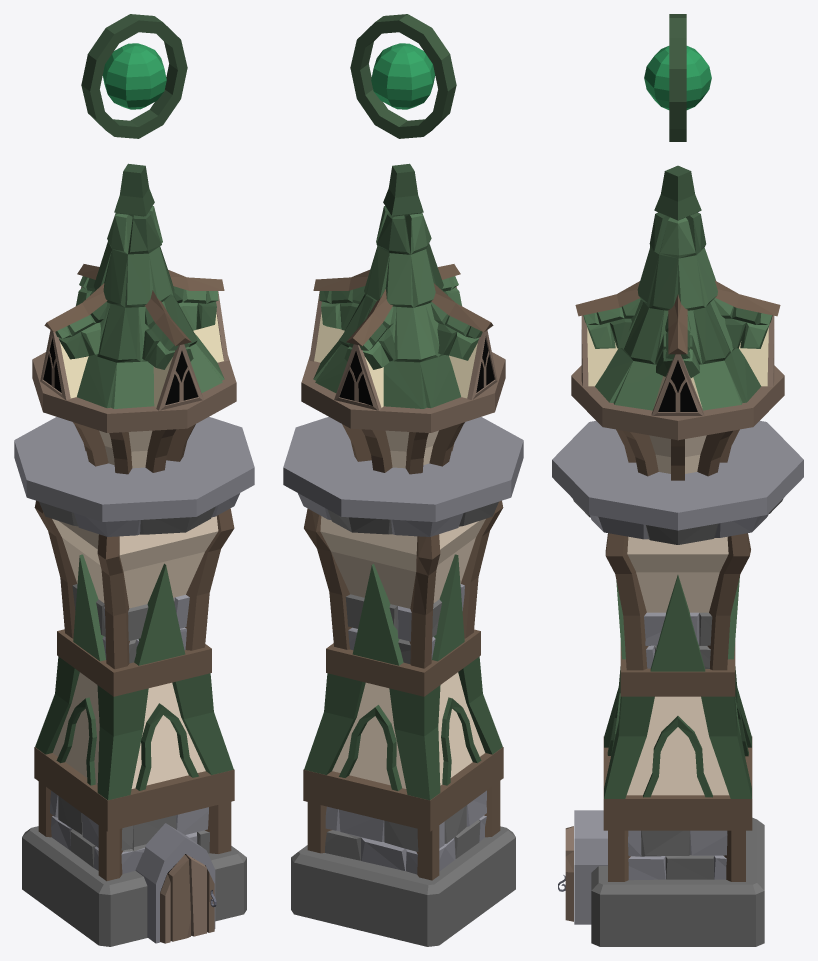
File: Wizard_Tower_lv3.gltf
3 views of the same model, side by side, from view 1: azimuth 30°, elevation 25°; view 2: azimuth 150°, elevation 25°; view 3: azimuth 270°, elevation 25° (orthographic).
Visible parts, largest first — view 1: Wizard_Tower_LVL_3_Body, Wizard_Tower_LVL_3_Head; view 2: Wizard_Tower_LVL_3_Body, Wizard_Tower_LVL_3_Head; view 3: Wizard_Tower_LVL_3_Body, Wizard_Tower_LVL_3_Head.
Part boxes in pixels (x1=…): Wizard_Tower_LVL_3_Body: x1=14, y1=163, x2=254, y2=946; Wizard_Tower_LVL_3_Head: x1=81, y1=14, x2=187, y2=138; Wizard_Tower_LVL_3_Body: x1=283, y1=163, x2=523, y2=946; Wizard_Tower_LVL_3_Head: x1=350, y1=14, x2=456, y2=138; Wizard_Tower_LVL_3_Body: x1=552, y1=165, x2=803, y2=946; Wizard_Tower_LVL_3_Head: x1=644, y1=14, x2=711, y2=141.
Bounding box in the file's own units: 2.76 × 10.79 × 2.76.
Materials: 2 (2 with a texture image).
